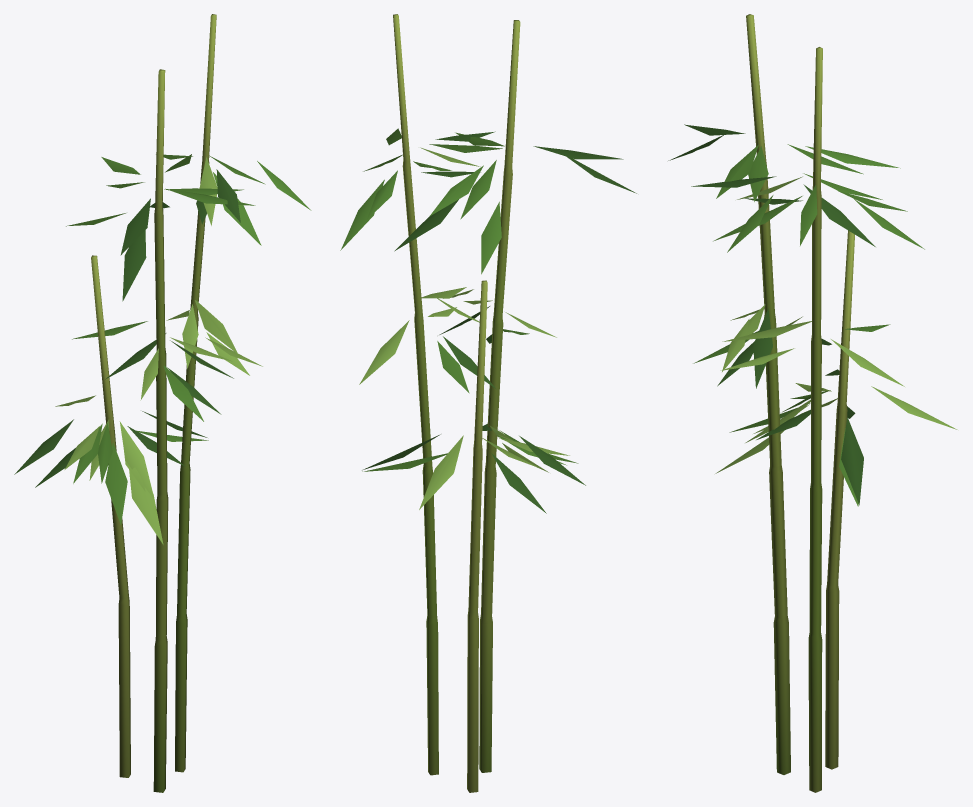
The model's file is prop.bamboo_stalks.glb.
3 renders of one model, left to right at view 1: azimuth 30°, elevation 25°; view 2: azimuth 150°, elevation 25°; view 3: azimuth 270°, elevation 25°, orthographic.
Visible parts, largest first — view 1: bamboo_stalks; view 2: bamboo_stalks; view 3: bamboo_stalks.
Boxes of the visible parts, x1,y1,x2,y2 form: bamboo_stalks: (14,14,311,792); bamboo_stalks: (340,14,636,792); bamboo_stalks: (668,14,957,792).
Bounding box in the file's own units: 2.82 × 8.12 × 2.83.
